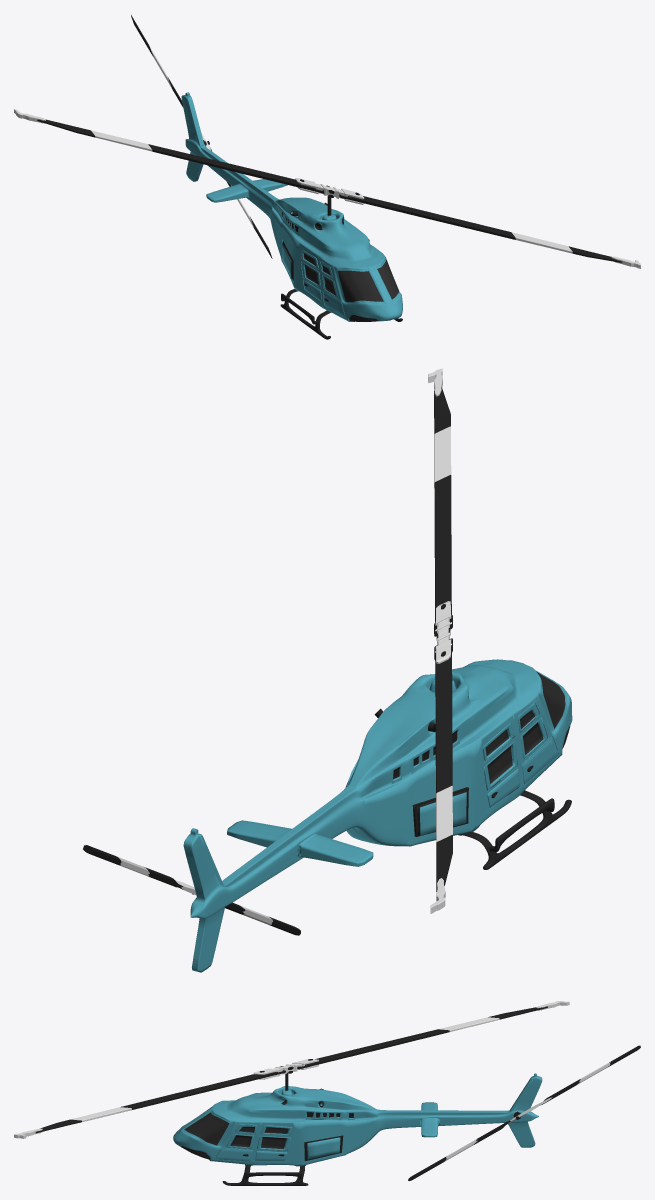
The model's file is Heli_bell.fbx.
The picture shows the model from 3 angles, top to bottom: view 1: azimuth 30°, elevation 25°; view 2: azimuth 150°, elevation 25°; view 3: azimuth 270°, elevation 25°; orthographic projection. The views are drawn at different scales.
Parts seen in each view (by area): view 1: body_helicopter, baling baling_1, baling-baling_2; view 2: body_helicopter, baling baling_1, baling-baling_2; view 3: body_helicopter, baling baling_1, baling-baling_2.
Boxes of the visible parts, x1,y1,x2,y2 form: body_helicopter: (181, 92, 402, 339); baling baling_1: (14, 109, 640, 268); baling-baling_2: (131, 15, 272, 258); body_helicopter: (183, 659, 572, 972); baling baling_1: (428, 368, 452, 913); baling-baling_2: (83, 845, 300, 935); body_helicopter: (173, 1073, 542, 1185); baling baling_1: (14, 1001, 569, 1138); baling-baling_2: (408, 1045, 640, 1180).
Bounding box in the file's own units: 1553 × 709 × 3058.
